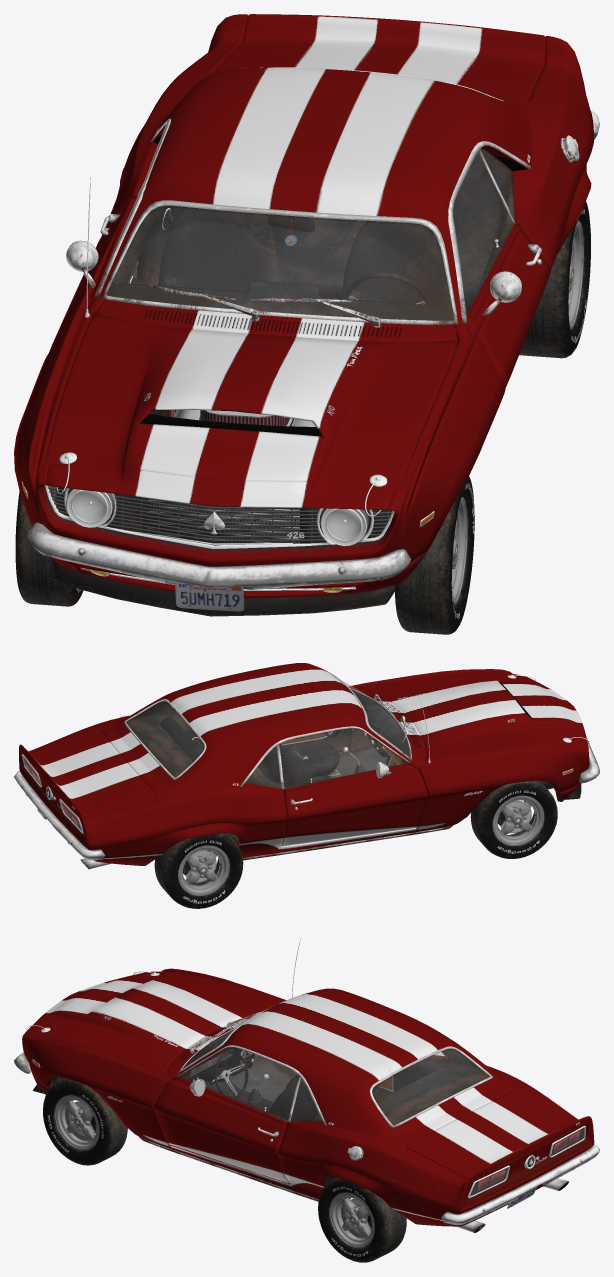
3 views of the same model, one above another, from view 1: azimuth 30°, elevation 25°; view 2: azimuth 150°, elevation 25°; view 3: azimuth 270°, elevation 25° (orthographic). The views are drawn at different scales.
Visible parts, largest first — view 1: Object_15, Object_5, Object_14, Object_3, Object_6, Object_13, left_front_tire, rear_tires, right_front_tire, Object_10, Object_8, Object_20 (+2 smaller); view 2: Object_15, Object_14, Object_6, Object_5, Object_3, right_front_tire, rear_tires, rear_rims, right_front_rim, Object_20; view 3: Object_15, Object_14, Object_6, Object_5, rear_tires, left_front_tire, Object_3, rear_rims, left_front_rim, Object_20, Object_10, Object_7.
Part boxes in pixels (x1,y1,x2,y2): Object_15: (14, 14, 593, 597); Object_5: (21, 67, 599, 616); Object_14: (107, 149, 513, 320); Object_3: (158, 148, 500, 310); Object_6: (104, 148, 514, 325); Object_13: (56, 410, 391, 543); left_front_tire: (395, 475, 474, 634); rear_tires: (519, 201, 590, 358); right_front_tire: (15, 491, 83, 606); Object_10: (72, 490, 360, 591); Object_8: (175, 581, 244, 611); Object_20: (129, 208, 496, 305); Object_15: (19, 663, 589, 865); Object_14: (126, 679, 409, 788); Object_6: (126, 689, 412, 789); Object_5: (14, 670, 599, 874); Object_3: (160, 716, 341, 787); right_front_tire: (470, 780, 557, 858); rear_tires: (154, 833, 243, 908); rear_rims: (178, 845, 229, 895); right_front_rim: (492, 795, 544, 845); Object_20: (192, 724, 391, 781); Object_15: (22, 968, 594, 1226); Object_14: (181, 1021, 489, 1124); Object_6: (179, 1029, 489, 1125); Object_5: (14, 938, 599, 1227); rear_tires: (318, 1177, 406, 1262); left_front_tire: (43, 1078, 127, 1165); Object_3: (248, 1066, 459, 1121); rear_rims: (329, 1192, 374, 1248); left_front_rim: (54, 1095, 99, 1150); Object_20: (189, 1048, 322, 1121); Object_10: (190, 1049, 584, 1196); Object_7: (33, 1060, 584, 1196).
Bounding box in the file's own units: 7.57 × 2.87 × 8.28.
16 materials, 16 textured.
